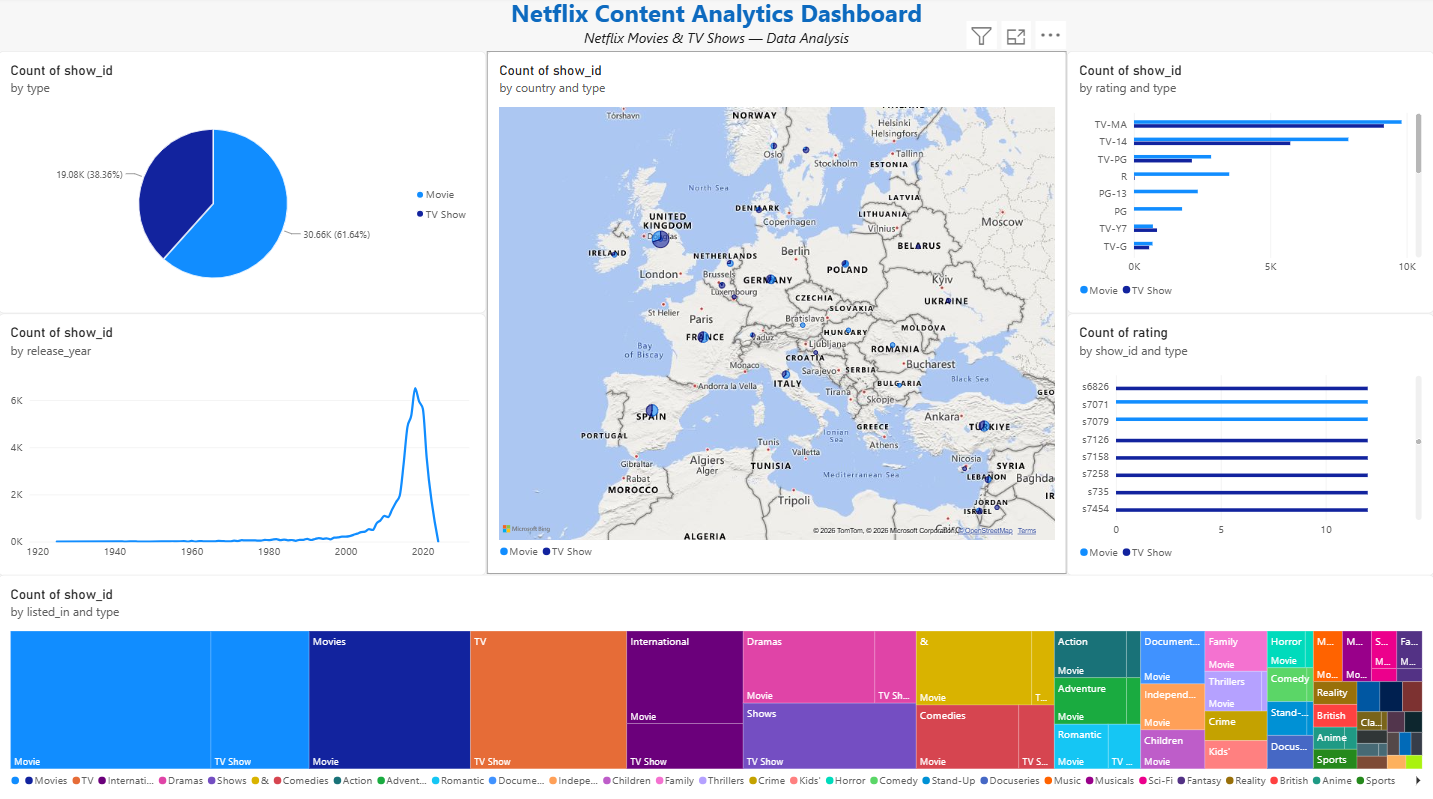

Layout of this report page (visuals, bound fields, positions):
{"tool":"powerbi","page":{"name":"Page 1","canvas":[1920,1080],"ordinal":0},"visuals":[{"type":"pieChart","fields":{"Category":["clean_netflix.type"],"Y":["CountNonNull(clean_netflix.show_id)"]},"box":[0,73.9,652.2,350],"z":0},{"type":"lineChart","fields":{"Category":["clean_netflix.release_year"],"Y":["CountNonNull(clean_netflix.show_id)"]},"box":[0,423.9,652.2,350],"z":1000},{"type":"map","fields":{"Category":["clean_netflix.country"],"Series":["clean_netflix.type"],"Size":["CountNonNull(clean_netflix.show_id)"]},"box":[652.2,73.9,776.1,700],"z":2000},{"type":"clusteredBarChart","fields":{"Category":["clean_netflix.rating"],"Series":["clean_netflix.type"],"Y":["CountNonNull(clean_netflix.show_id)"]},"box":[1428.5,74.1,491.3,350],"z":3000},{"type":"clusteredBarChart","fields":{"Category":["clean_netflix.show_id"],"Series":["clean_netflix.type"],"Y":["CountNonNull(clean_netflix.rating)"]},"box":[1428.3,423.9,491.3,350],"z":5000},{"type":"treemap","fields":{"Details":["clean_netflix.type"],"Group":["clean_netflix.listed_in"],"Values":["CountNonNull(clean_netflix.show_id)"]},"box":[0,773.9,1919.6,306.5],"z":6000},{"type":"textbox","box":[100,0,552.2,73.9],"z":6001},{"type":"textbox","box":[0,0,1919.6,73.9],"z":6002}]}

Visuals, with their boxes in screenshot pixels (x1, y1, x2, y2), scaled from the page's 1920x1080 canvas onto the 1433x799 screenshot:
pieChart - clean_netflix.type x CountNonNull(clean_netflix.show_id): detection(0, 55, 487, 314)
lineChart - clean_netflix.release_year x CountNonNull(clean_netflix.show_id): detection(0, 314, 487, 573)
map - clean_netflix.country x clean_netflix.type: detection(487, 55, 1066, 573)
clusteredBarChart - clean_netflix.rating x clean_netflix.type: detection(1066, 55, 1432, 314)
clusteredBarChart - clean_netflix.show_id x clean_netflix.type: detection(1066, 314, 1432, 573)
treemap - clean_netflix.type x clean_netflix.listed_in: detection(0, 573, 1432, 798)
textbox: detection(75, 0, 487, 55)
textbox: detection(0, 0, 1432, 55)
